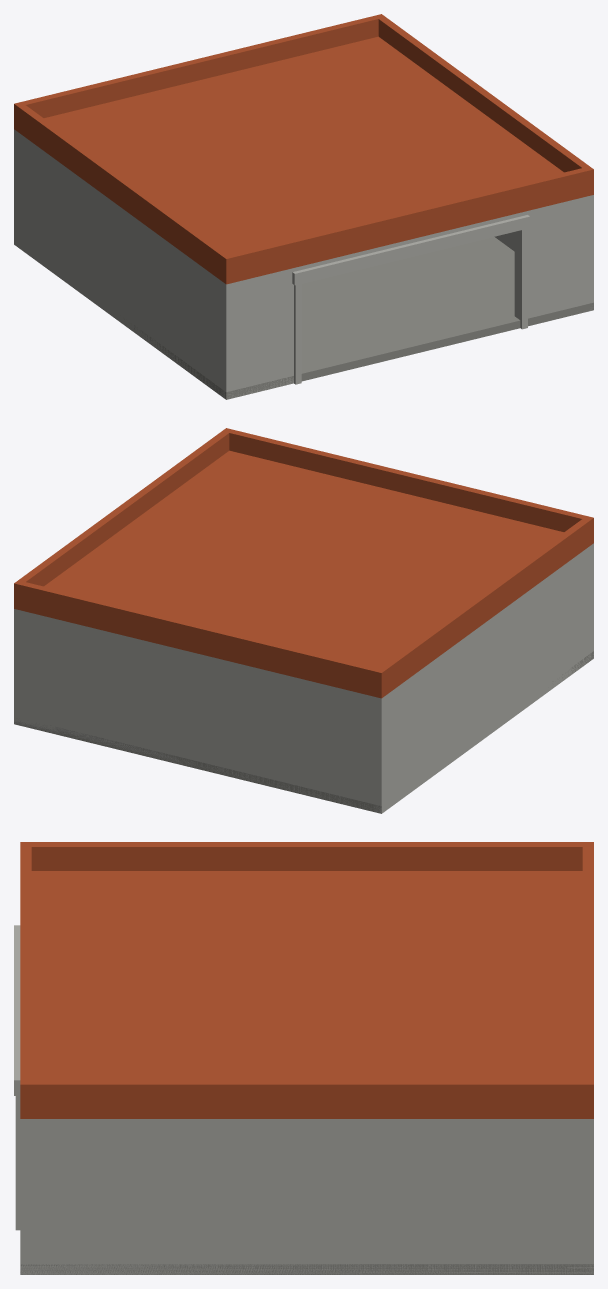
The model's file is garage.glb.
3 views of the same model, one above another, from view 1: azimuth 30°, elevation 25°; view 2: azimuth 150°, elevation 25°; view 3: azimuth 270°, elevation 25° (orthographic). The views are drawn at different scales.
Visible parts, largest first — view 1: garage; view 2: garage; view 3: garage.
Boxes of the visible parts, x1,y1,x2,y2 form: garage: (14,14,593,399); garage: (14,428,593,813); garage: (14,842,593,1274).
Size of the model in its own units: 10 by 3.66 by 10.11.
